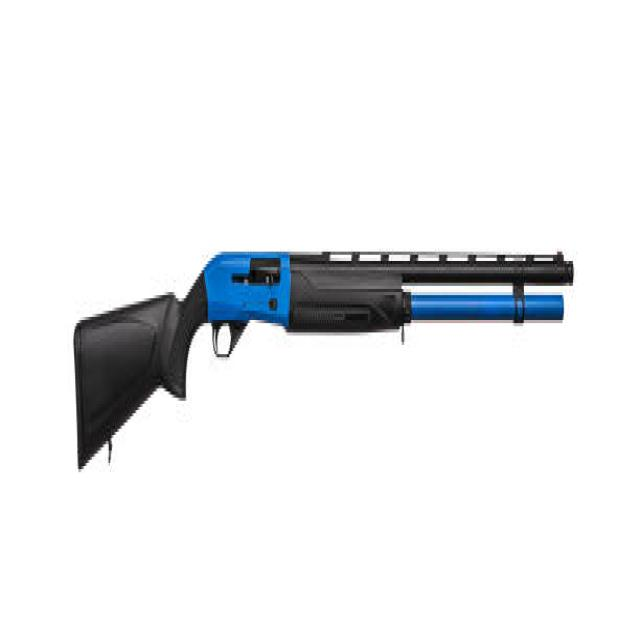rifle: (72, 215, 578, 479)
